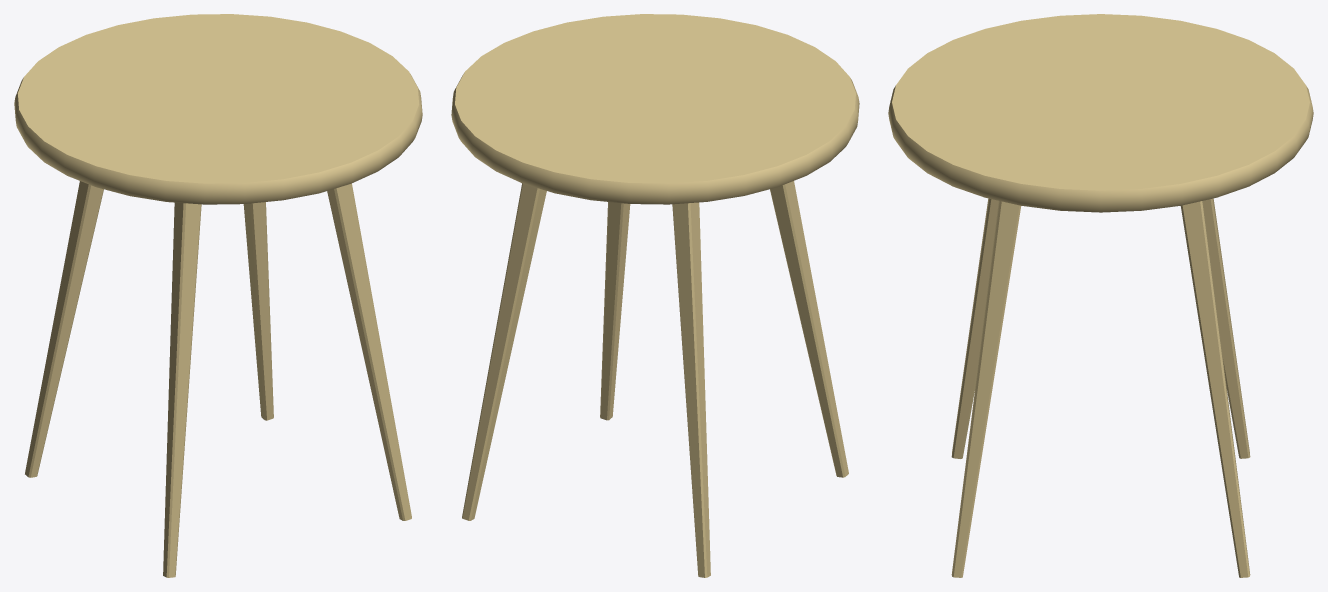
The model's file is table_end_b_01.FBX.
3 renders of one model, left to right at view 1: azimuth 30°, elevation 25°; view 2: azimuth 150°, elevation 25°; view 3: azimuth 270°, elevation 25°, orthographic. The views are drawn at different scales.
Visible parts, largest first — view 1: table_end_b_01; view 2: table_end_b_01; view 3: table_end_b_01.
Part boxes in pixels (x1=…): table_end_b_01: x1=14, y1=14, x2=422, y2=577; table_end_b_01: x1=451, y1=14, x2=859, y2=577; table_end_b_01: x1=888, y1=14, x2=1313, y2=577.
Bounding box in the file's own units: 0.5188 × 0.5577 × 0.5188.
